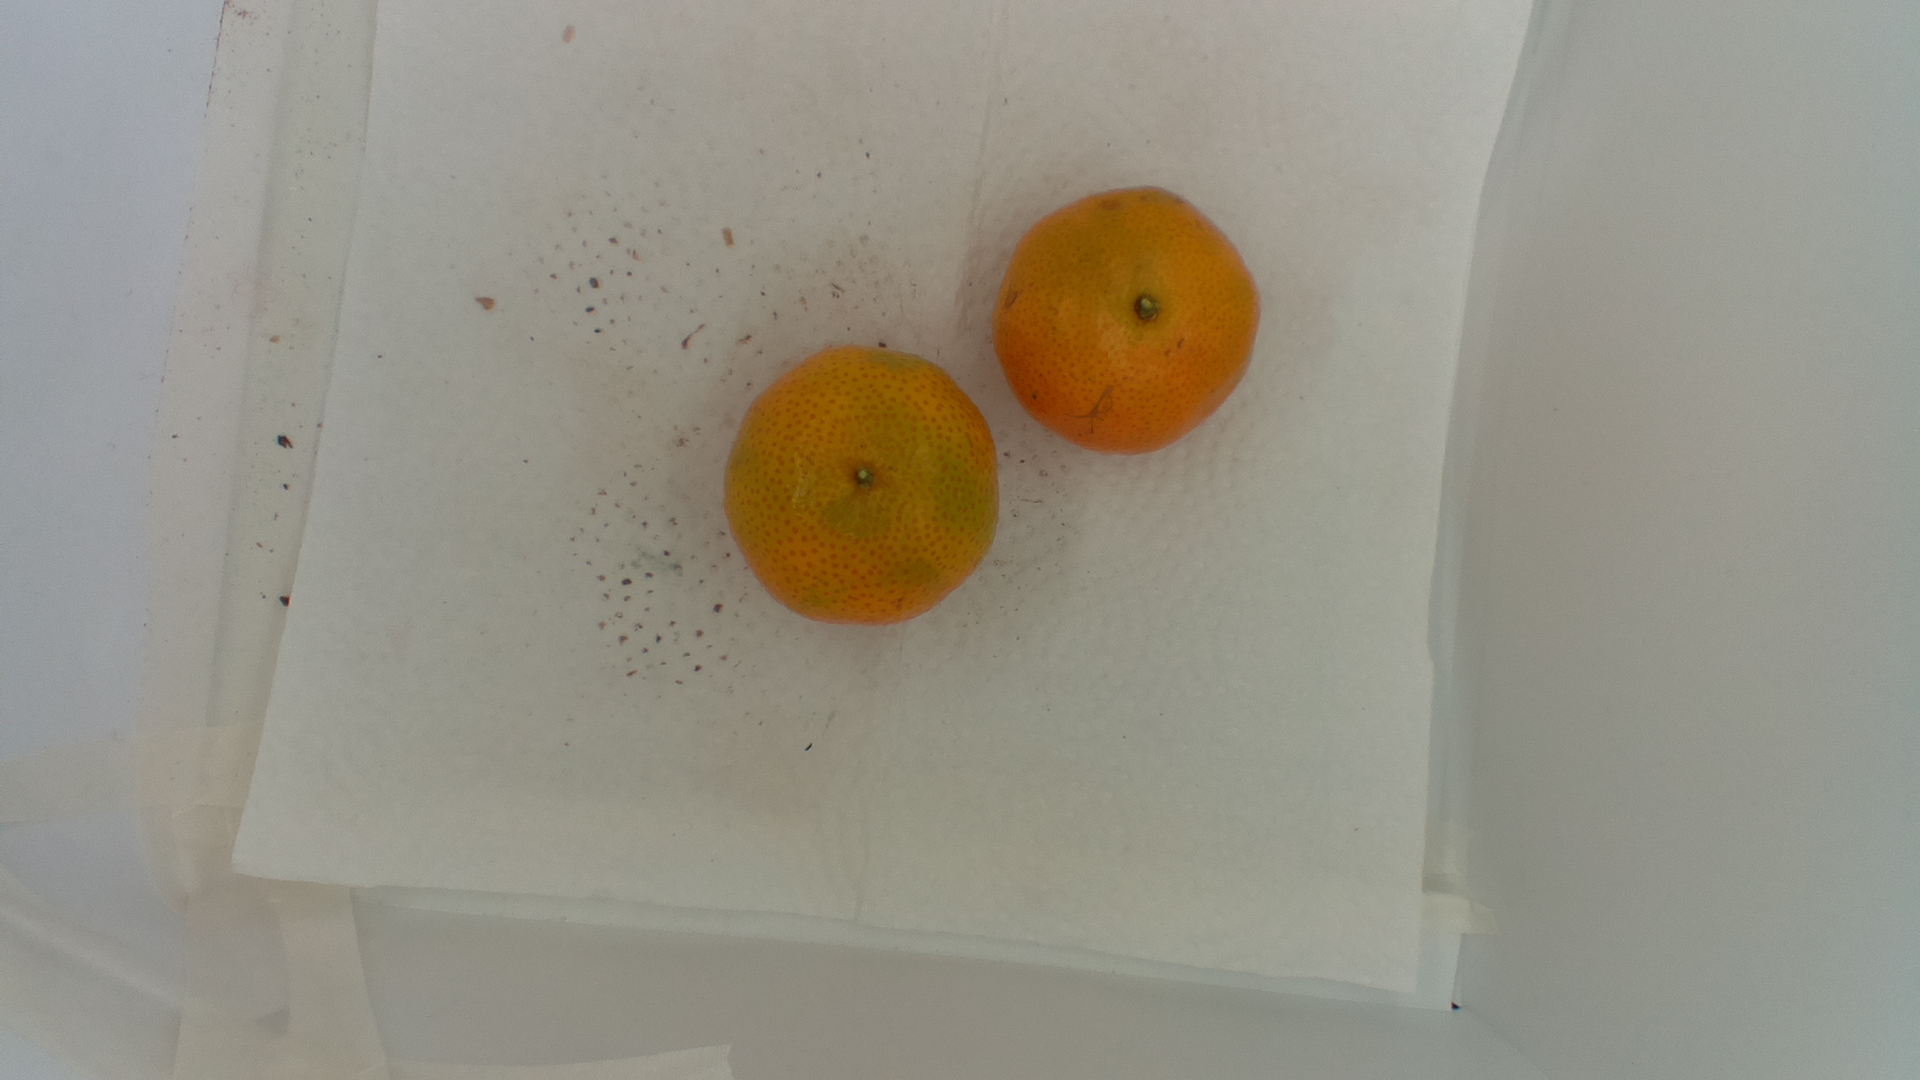fruit: (723, 342, 1004, 640), (989, 183, 1271, 456)
